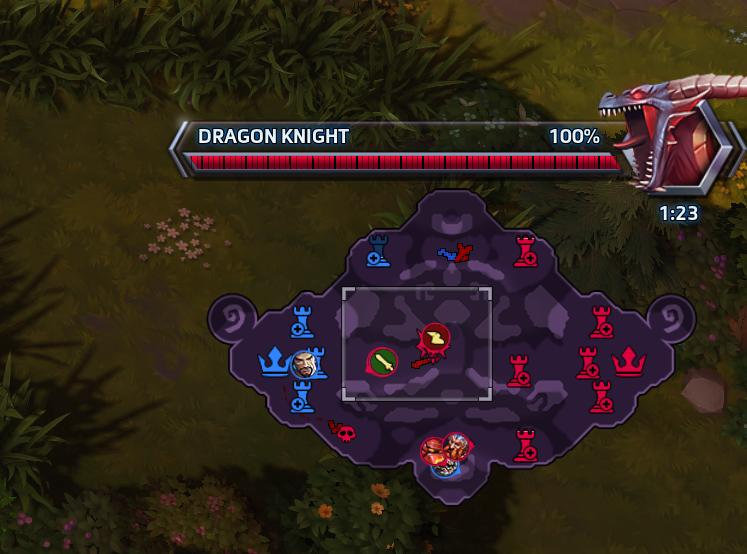blue nexus: (256, 344, 290, 377)
blue player: (289, 349, 318, 378), (429, 457, 460, 478)
blue tower: (289, 378, 316, 413), (289, 304, 315, 339), (365, 232, 390, 268), (367, 233, 388, 250)
red nexus: (610, 344, 647, 376)
red player: (365, 347, 398, 377), (419, 322, 451, 352), (442, 431, 473, 461), (419, 436, 448, 466)
red tower: (512, 428, 542, 464), (588, 379, 617, 415), (574, 345, 602, 382), (507, 353, 534, 389), (512, 234, 538, 267)
